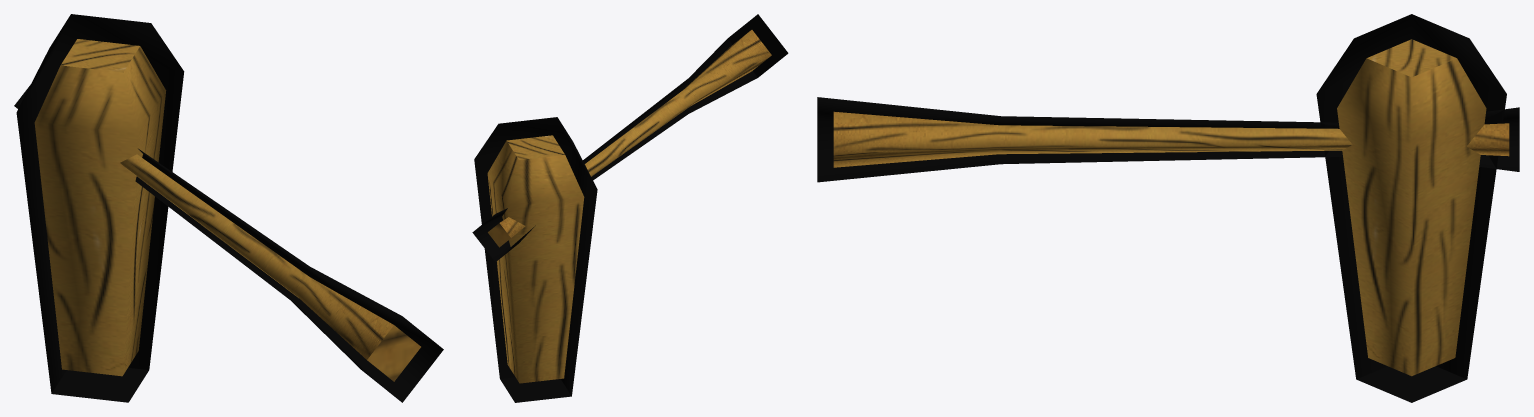
Rendered from hammerModel.fbx.
3 views of the same model, side by side, from view 1: azimuth 30°, elevation 25°; view 2: azimuth 150°, elevation 25°; view 3: azimuth 270°, elevation 25° (orthographic). The views are drawn at different scales.
Parts seen in each view (by area): view 1: hammer, shadow; view 2: hammer, shadow; view 3: hammer, shadow.
Part boxes in pixels (left/top/right/bottom): hammer: left=34, top=39, right=420, bottom=381; shadow: left=14, top=14, right=443, bottom=402; hammer: left=487, top=30, right=771, bottom=383; shadow: left=472, top=14, right=788, bottom=402; hammer: left=833, top=39, right=1509, bottom=376; shadow: left=817, top=14, right=1519, bottom=402.
Size of the model in its own units: 187 by 369 by 689.
